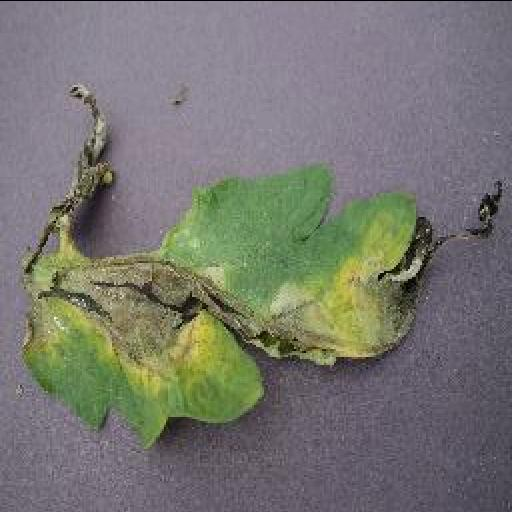disease_tomato: (18, 86, 512, 450)
